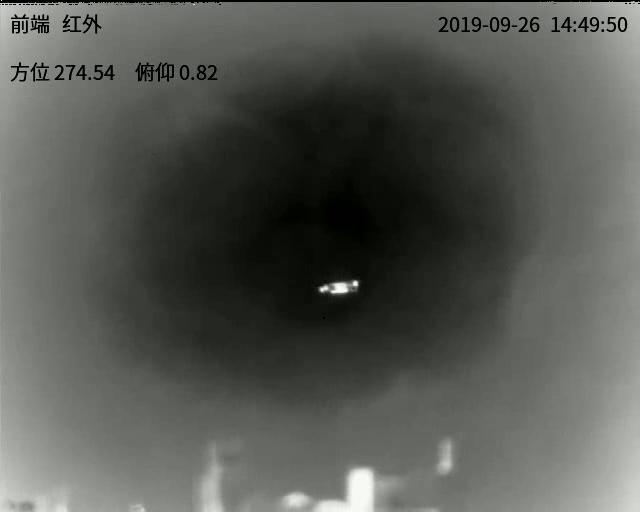DRONE: (319, 279, 361, 294)
